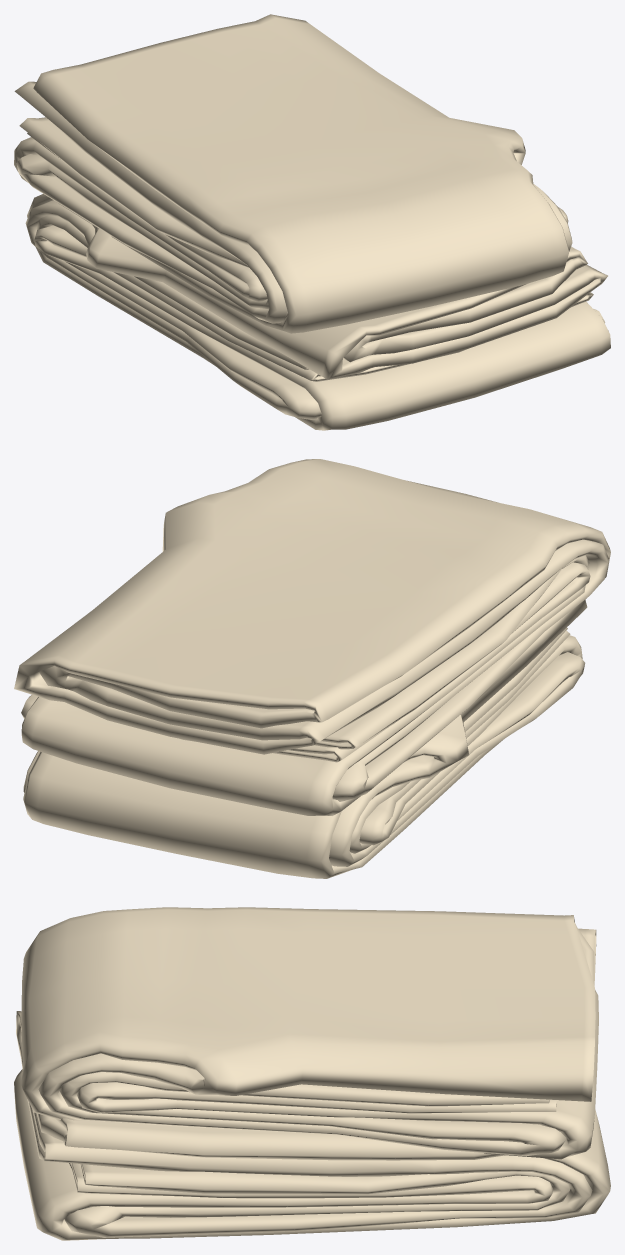
The model's file is Folded_Pant18.fbx.
3 views of the same model, one above another, from view 1: azimuth 30°, elevation 25°; view 2: azimuth 150°, elevation 25°; view 3: azimuth 270°, elevation 25° (orthographic). The views are drawn at different scales.
Visible parts, largest first — view 1: Folded_Pant18; view 2: Folded_Pant18; view 3: Folded_Pant18.
Part boxes in pixels (left/top/right/bottom): Folded_Pant18: left=14, top=14, right=610, bottom=430; Folded_Pant18: left=14, top=459, right=610, bottom=878; Folded_Pant18: left=14, top=907, right=610, bottom=1240.
Bounding box in the file's own units: 25.02 × 11.51 × 34.5.
1 material, 1 textured.
